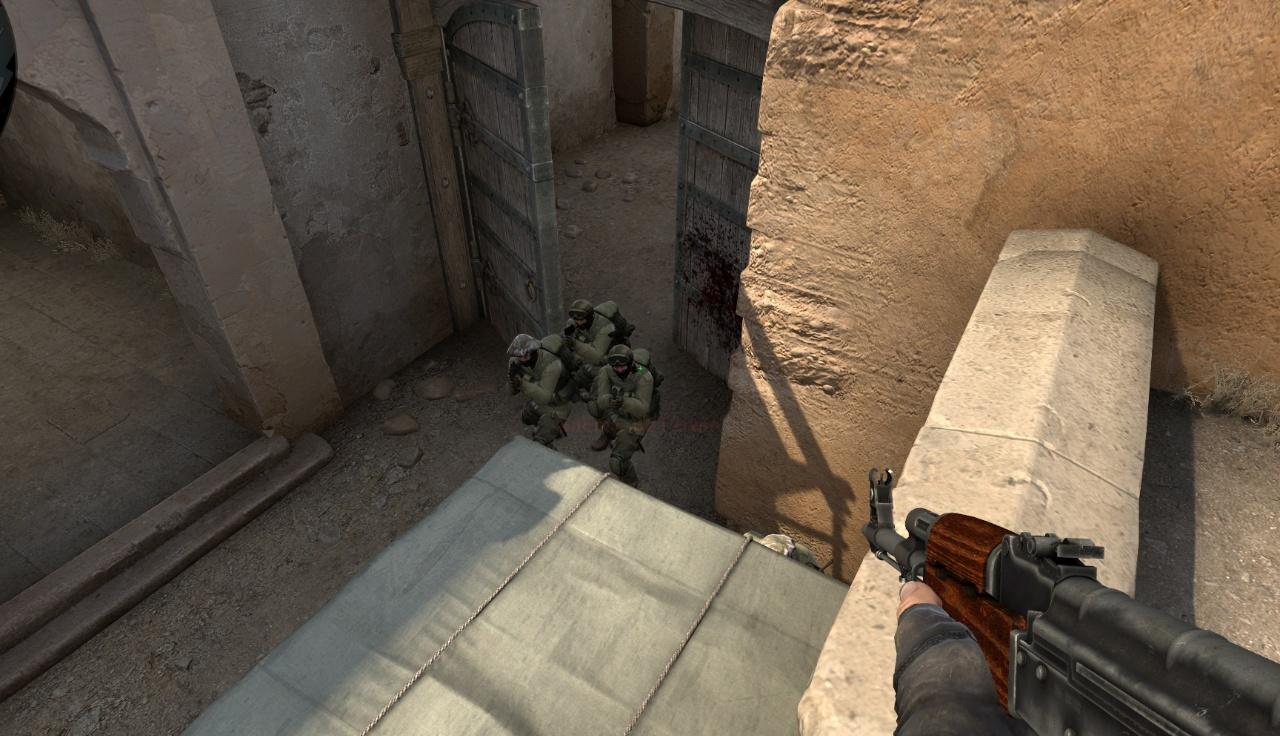ct: (592, 345, 657, 488), (504, 335, 574, 452), (564, 296, 611, 388)
cthead: (761, 533, 797, 563), (512, 335, 537, 367), (610, 345, 632, 376), (569, 300, 593, 328)
rifle: (863, 467, 1280, 736)
